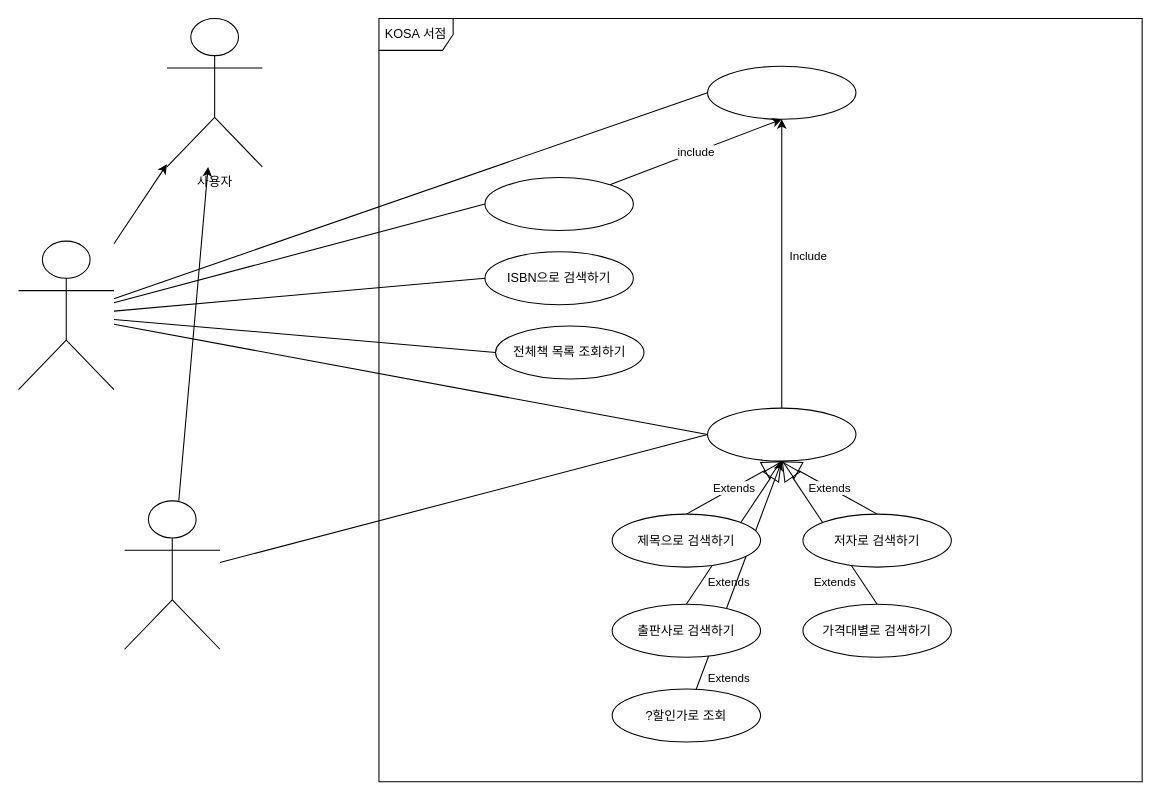
The diagram is 1161 pixels wide and 800 high, and some of its shapes have lost their labels. Each missing label, with the centre of its shape:
"도서관리자" belongs at pixel 65 315.
"신규로 책 등록하기" belongs at pixel 781 92.
"일반사용자" belongs at pixel 171 574.
"책 검색하기" belongs at pixel 781 434.
"특정한 책 삭제하기" belongs at pixel 558 203.
